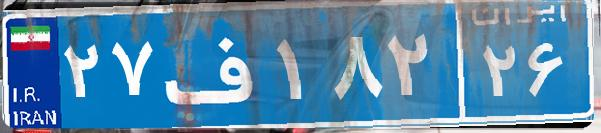1: (273, 28, 330, 110)
2: (385, 28, 445, 110), (57, 26, 110, 107), (475, 38, 525, 113)
6: (525, 38, 570, 115)
7: (110, 28, 158, 105)
8: (330, 28, 385, 110)
ف: (158, 15, 273, 115)
